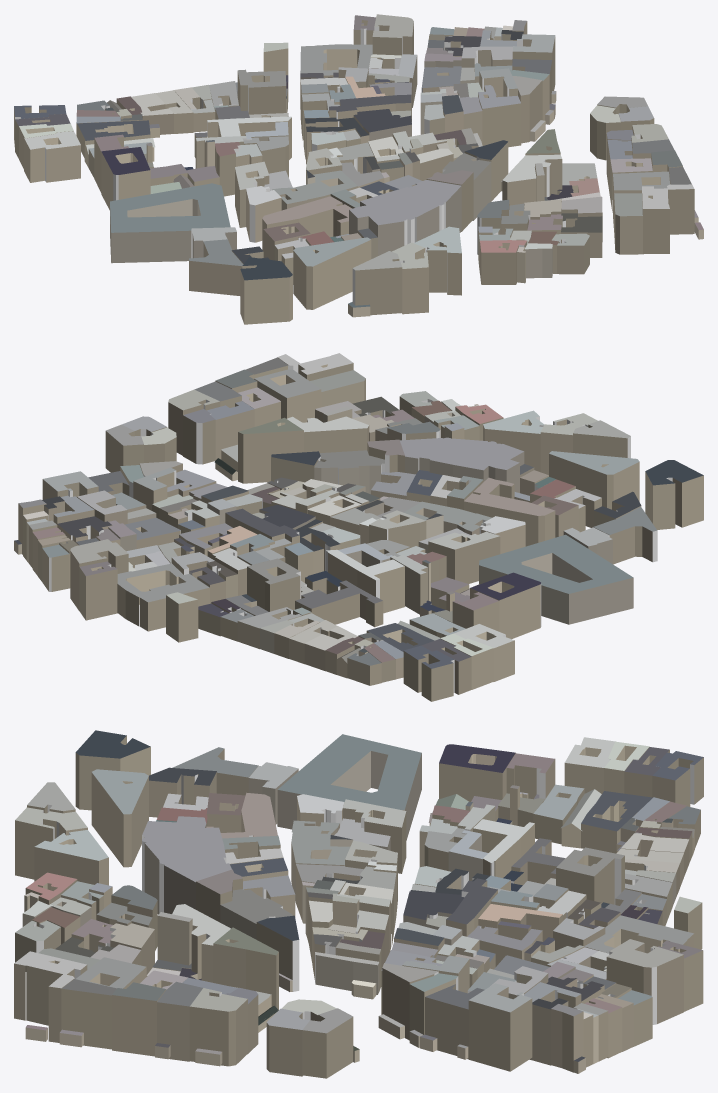
3 views of the same model, one above another, from view 1: azimuth 30°, elevation 25°; view 2: azimuth 150°, elevation 25°; view 3: azimuth 270°, elevation 25° (orthographic). The views are drawn at different scales.
Visible parts, largest first — view 1: tuile; view 2: tuile; view 3: tuile.
Part boxes in pixels (bbox=[...]): tuile: bbox=[14, 14, 703, 324]; tuile: bbox=[14, 353, 703, 701]; tuile: bbox=[14, 730, 703, 1078].
Bounding box in the file's own units: 283 × 28.96 × 263.
